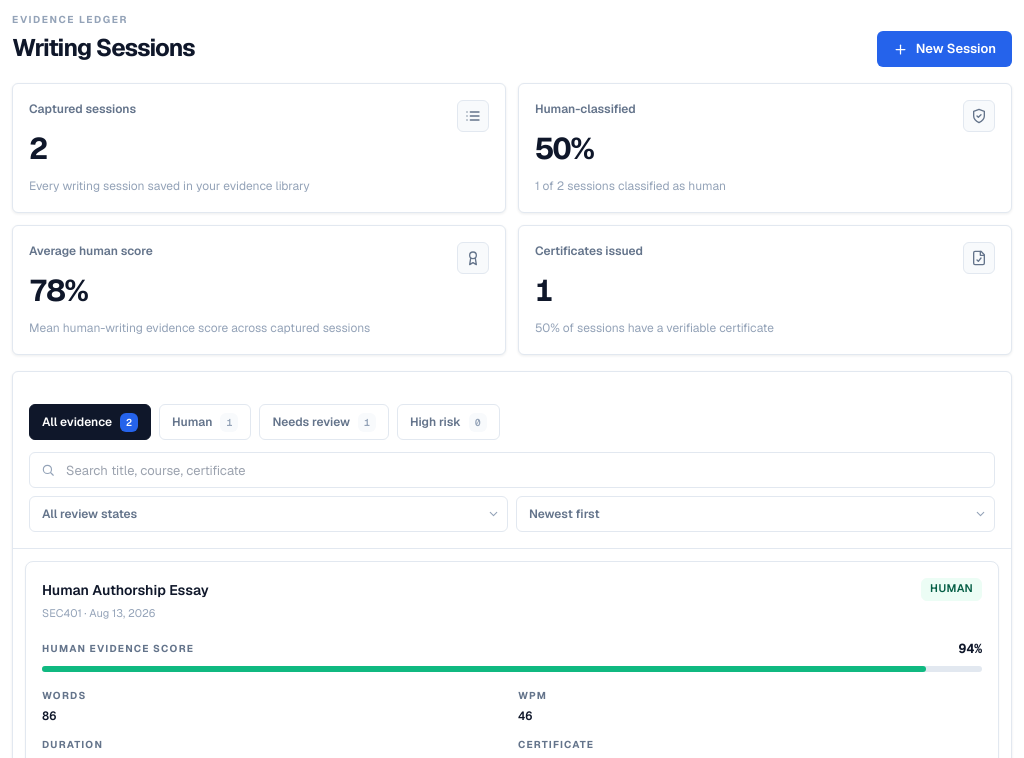
Test: SessionsPage › filters the ledger by search and restores all records when the search is cleared
The width and height of the screenshot is (1024, 758).
Type "no-such-session" into the field with placeholder "Search title, course, certificate" at point(512, 470), box [29, 452, 995, 488]
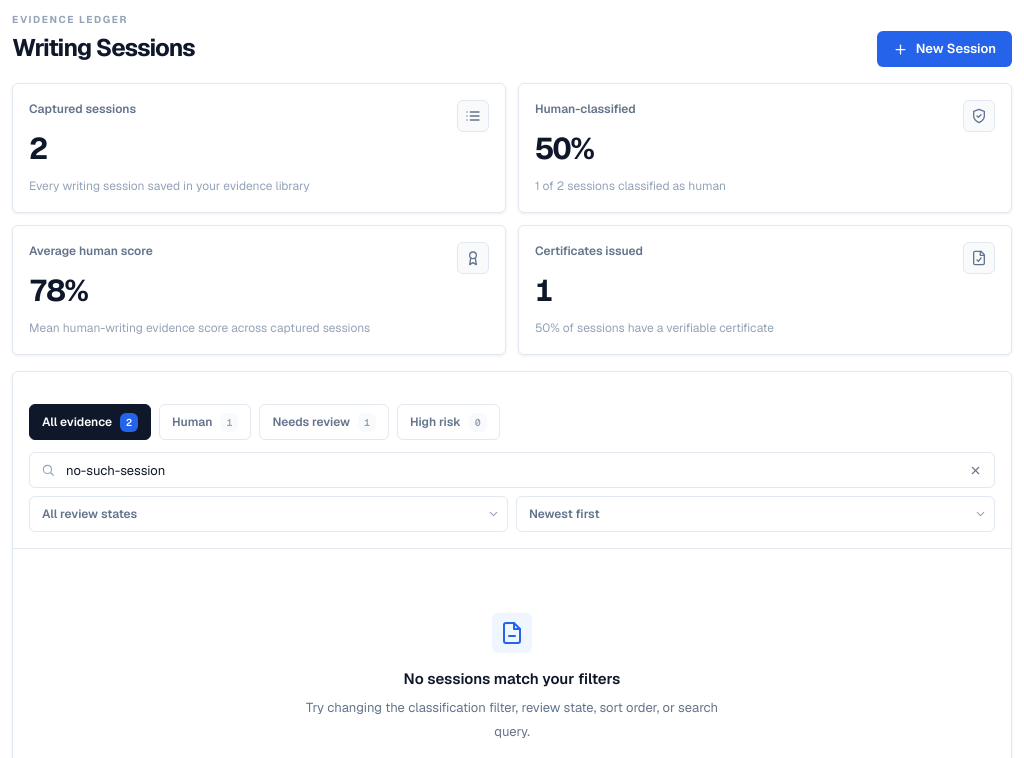
Expected: the text "No sessions match your filters" is shown, [404, 669, 620, 692]
Click the button named "Clear search" at point(975, 470), box [963, 458, 987, 482]
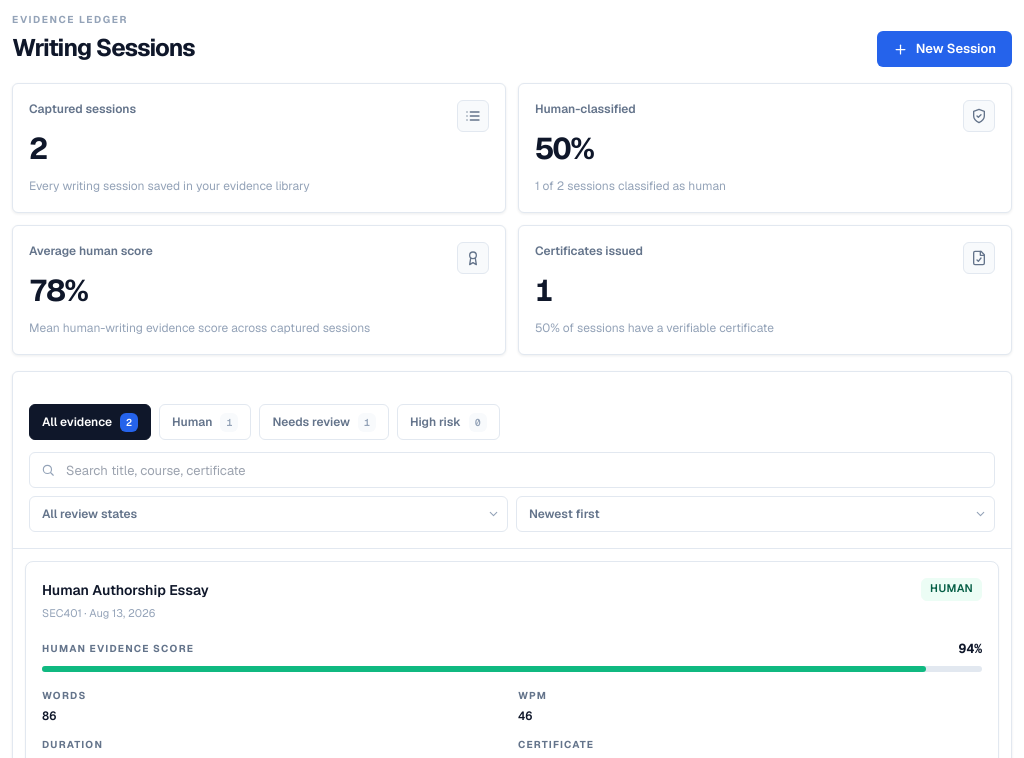
Expected: the text "No sessions match your filters" is gone
